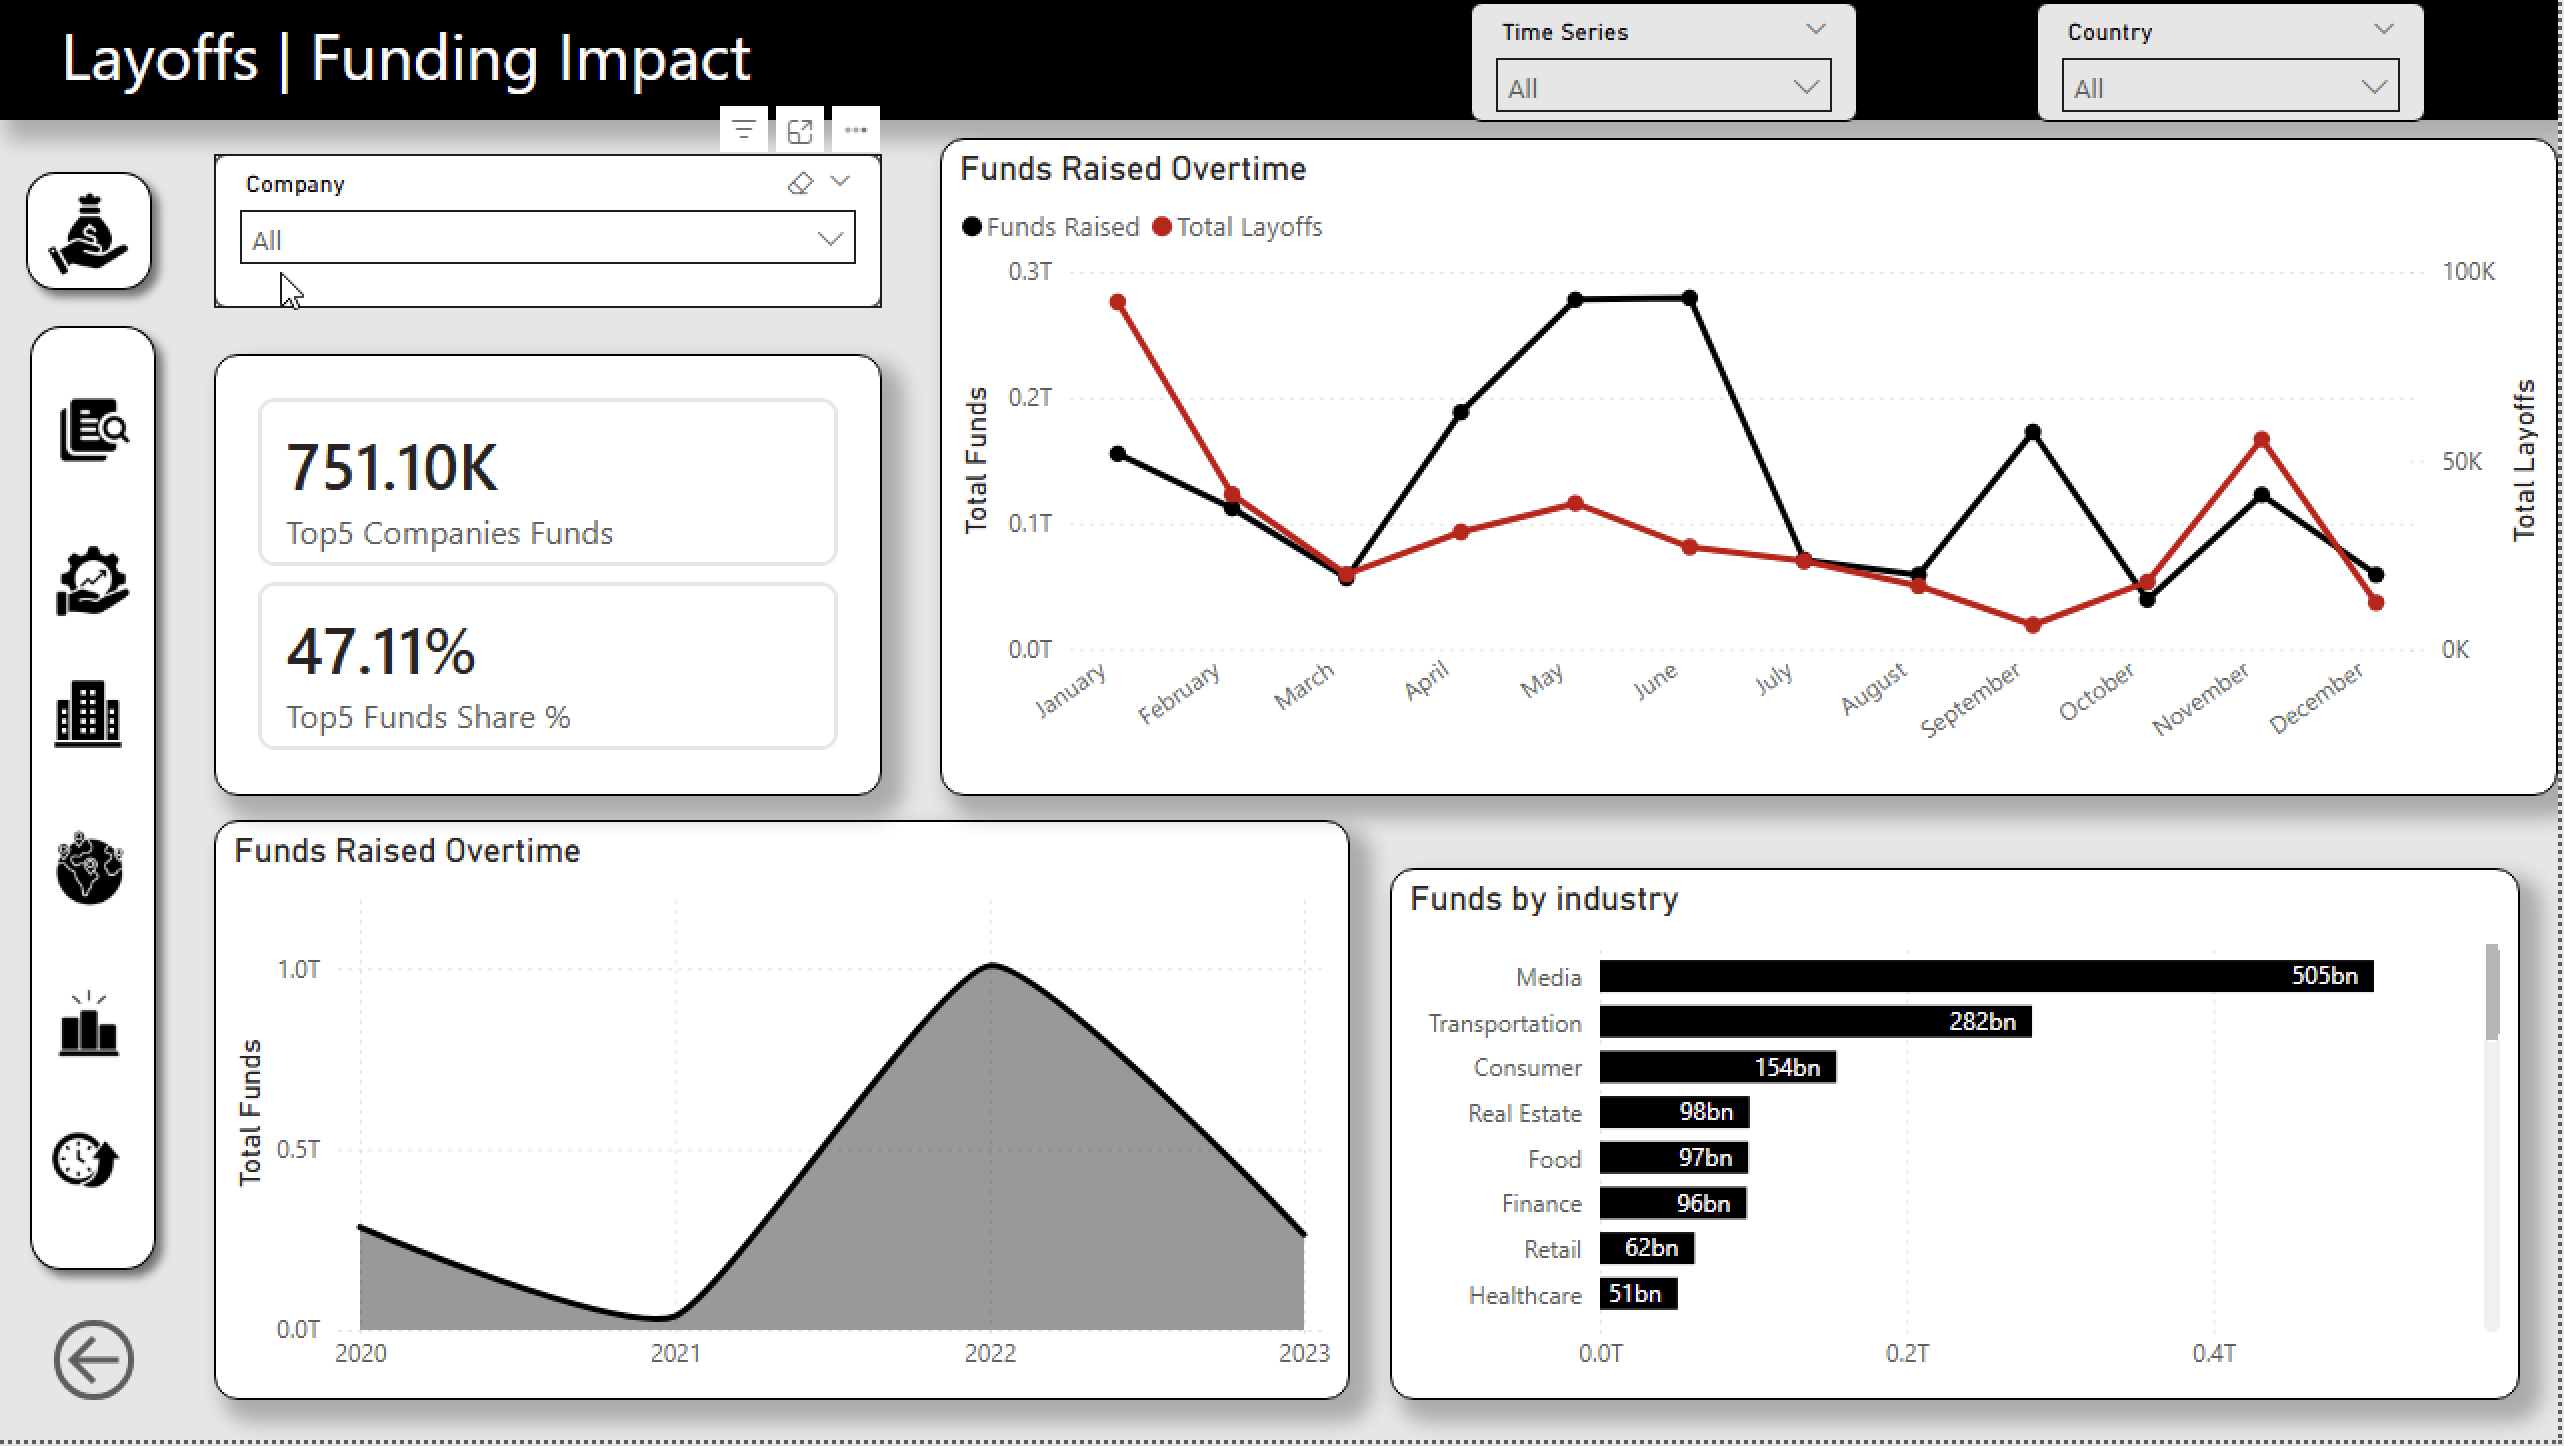

The dashboard page shown, as its layout file describes it:
{"tool":"powerbi","page":{"name":"Funding Impact","canvas":[1280,720],"ordinal":5},"visuals":[{"type":"textbox","box":[0,0,1280,60.4],"z":0},{"type":"slicer","fields":{"Values":["Calendar.Date.Variation.Date Hierarchy.Year"]},"box":[736.1,1,194.2,60.4],"z":1000},{"type":"slicer","fields":{"Values":["layoffs_db layoffs_staging2.country"]},"box":[1019.4,1,194.2,60.4],"z":2000},{"type":"shape","box":[7.1,153.8,80.4,489.8],"z":4000},{"type":"actionButton","box":[25.5,192.5,51.9,45.8],"z":5000},{"type":"actionButton","box":[23.4,265.8,62.1,48.9],"z":6000},{"type":"actionButton","box":[22.4,410.4,55,47.9],"z":7000},{"type":"actionButton","box":[22.4,334,55,45.8],"z":8000},{"type":"actionButton","box":[23.4,488.8,55,44.8],"z":9000},{"type":"actionButton","box":[22.4,558,45.8,43.8],"z":10000},{"type":"shape","box":[5.1,77.4,80.4,76.4],"z":11000},{"type":"actionButton","box":[20.4,90.6,49.9,50.9],"z":12000},{"type":"actionButton","box":[22.4,653.7,51.9,51.9],"z":13000},{"type":"lineChart","title":"Funds Raised Overtime","fields":{"Y":["Sum(layoffs_db layoffs_staging2.Funds)"],"Category":["Calendar.Date.Variation.Date Hierarchy.Year"]},"box":[108,410.2,567.7,290.3],"z":13001},{"type":"slicer","fields":{"Values":["layoffs_db layoffs_staging2.company"]},"box":[108,77.3,333.9,76.3],"z":13002},{"type":"clusteredBarChart","title":"Funds by industry","fields":{"Y":["Sum(layoffs_db layoffs_staging2.Funds)"],"Category":["layoffs_db layoffs_staging2.industry"]},"box":[696.5,433.9,564.7,266.5],"z":13003},{"type":"lineChart","title":"Funds Raised Overtime","fields":{"Y":["Sum(layoffs_db layoffs_staging2.Funds)"],"Category":["Calendar.Date.Variation.Date Hierarchy.Year","Calendar.Date.Variation.Date Hierarchy.Quarter","Calendar.Date.Variation.Date Hierarchy.Month","Calendar.Date.Variation.Date Hierarchy.Day"],"Y2":["Sum(layoffs_db layoffs_staging2.total_laid_off)"]},"box":[470.6,69.3,809.4,328.9],"z":13004},{"type":"cardVisual","fields":{"Data":["_Measures.Top5 Companies Funds","_Measures.Top5 Funds Share %"]},"box":[108,177.3,333.9,220.9],"z":13006}]}

Visuals, with their boxes in screenshot pixels (x1, y1, x2, y2), scaled from the page's 1280x720 canvas onto the 2564x1446 screenshot:
textbox: x1=0, y1=0, x2=2563, y2=121
slicer - Calendar.Date.Variation.Date Hierarchy.Year: x1=1475, y1=2, x2=1864, y2=123
slicer - layoffs_db layoffs_staging2.country: x1=2042, y1=2, x2=2431, y2=123
shape: x1=14, y1=309, x2=175, y2=1293
actionButton: x1=51, y1=387, x2=155, y2=479
actionButton: x1=47, y1=534, x2=171, y2=632
actionButton: x1=45, y1=824, x2=155, y2=920
actionButton: x1=45, y1=671, x2=155, y2=763
actionButton: x1=47, y1=982, x2=157, y2=1072
actionButton: x1=45, y1=1121, x2=137, y2=1209
shape: x1=10, y1=155, x2=171, y2=309
actionButton: x1=41, y1=182, x2=141, y2=284
actionButton: x1=45, y1=1313, x2=149, y2=1417
"Funds Raised Overtime" lineChart: x1=216, y1=824, x2=1354, y2=1407
slicer - layoffs_db layoffs_staging2.company: x1=216, y1=155, x2=885, y2=308
"Funds by industry" clusteredBarChart: x1=1395, y1=871, x2=2526, y2=1407
"Funds Raised Overtime" lineChart: x1=943, y1=139, x2=2563, y2=800
cardVisual - _Measures.Top5 Companies Funds x _Measures.Top5 Funds Share %: x1=216, y1=356, x2=885, y2=800
